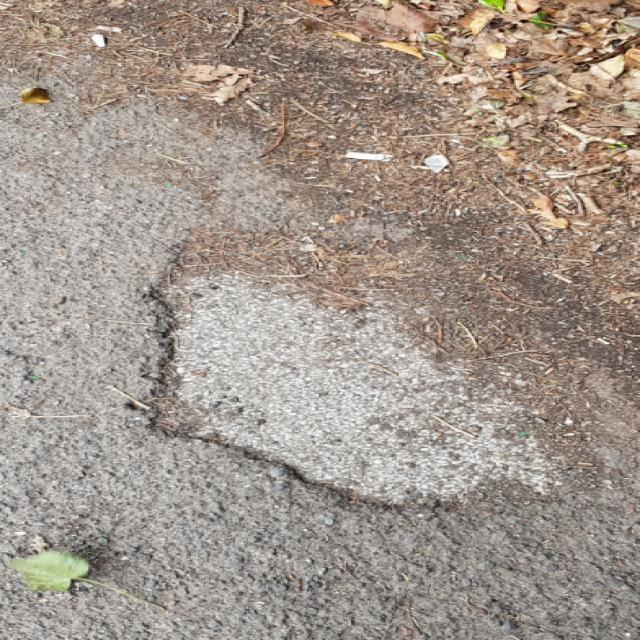pothole: (122, 226, 600, 512)
